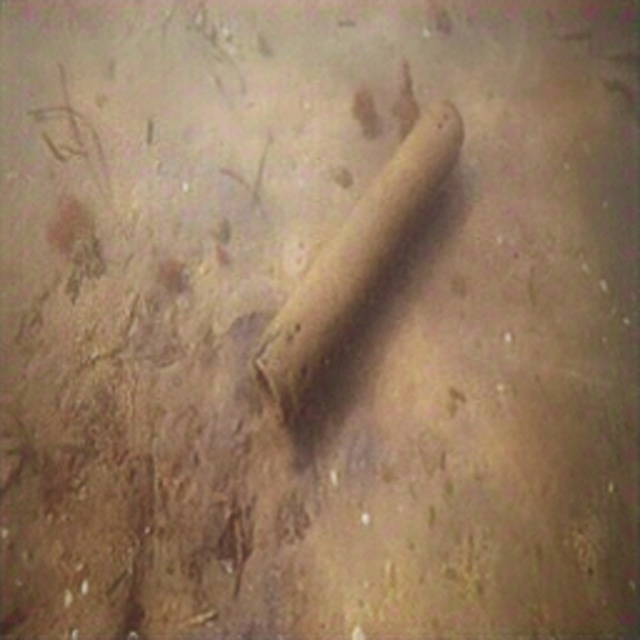mine: (248, 97, 465, 432)
